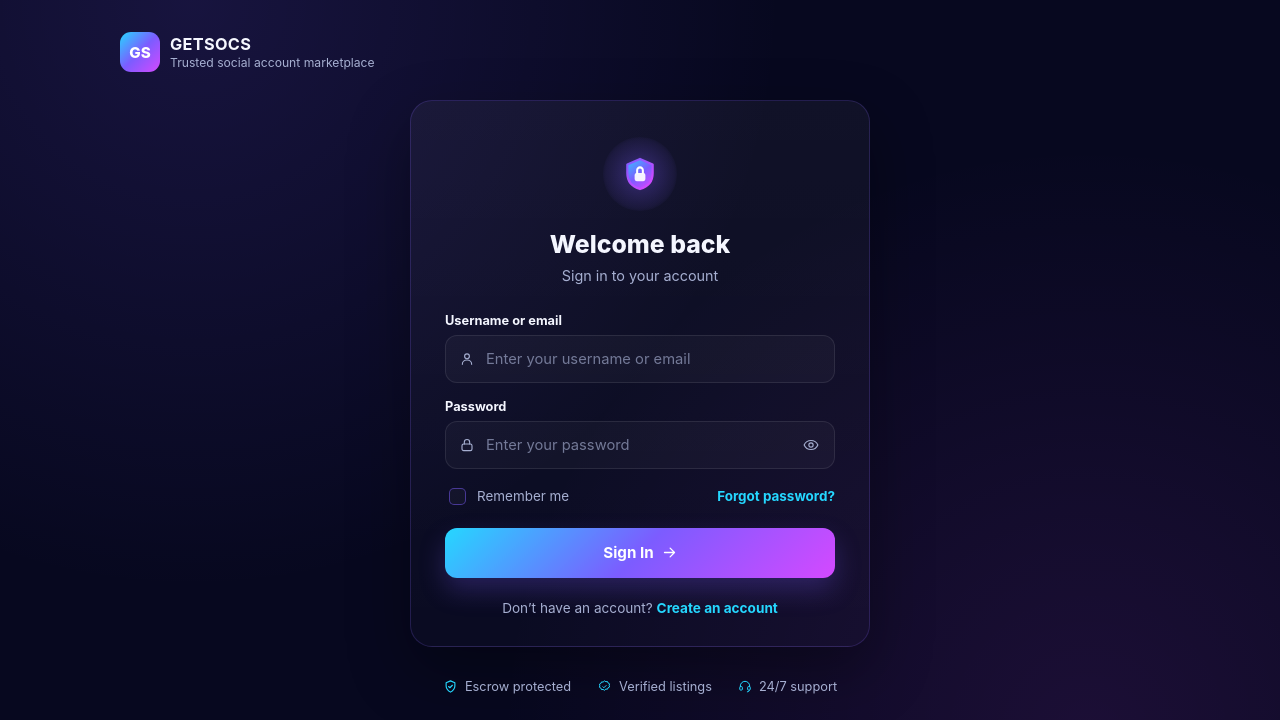
Test: Redesigned auth pages — render + core interactions › Login: clicking "Forgot password?" swaps in the Forgot-password card in place
Click the button "Forgot password?".
click(776, 496)  # box left=717, top=488, right=835, bottom=504
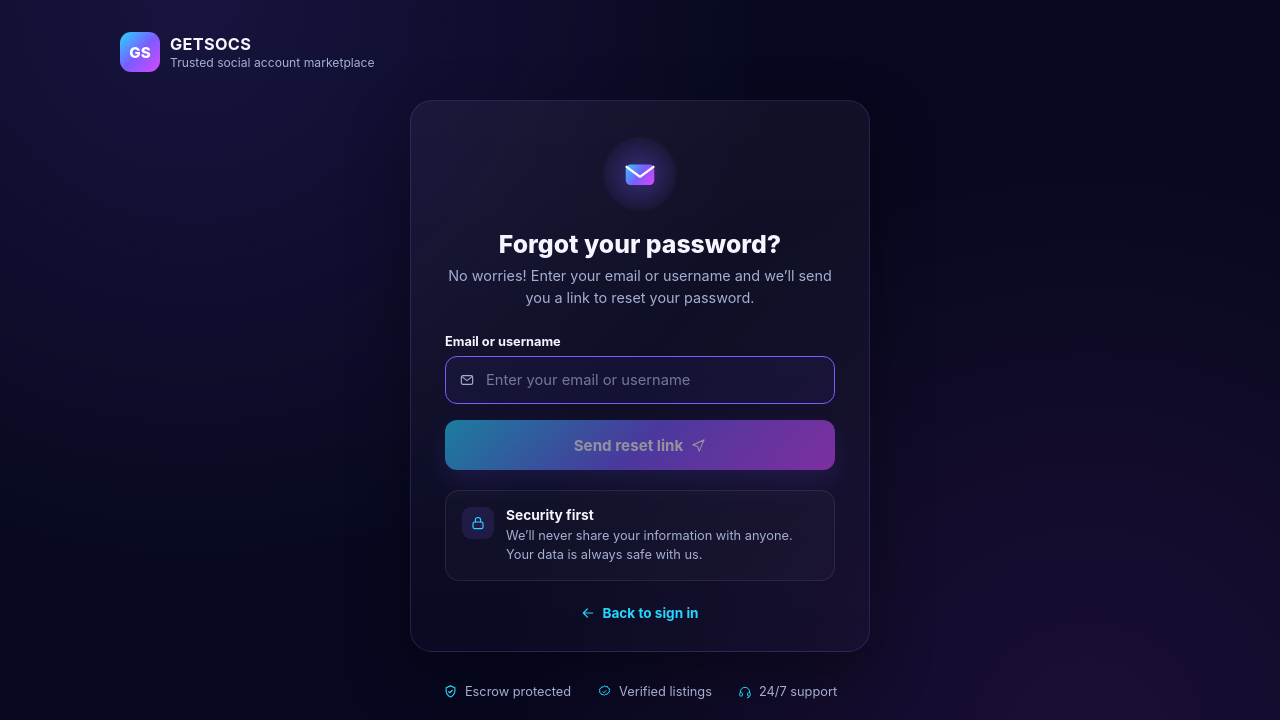
Expected: the heading "Forgot your password?" is shown, left=499, top=229, right=781, bottom=259
Expected: the field with placeholder "Enter your email or username" is shown, left=445, top=356, right=835, bottom=404
Expected: the text "Security first" is shown, left=506, top=507, right=594, bottom=523
